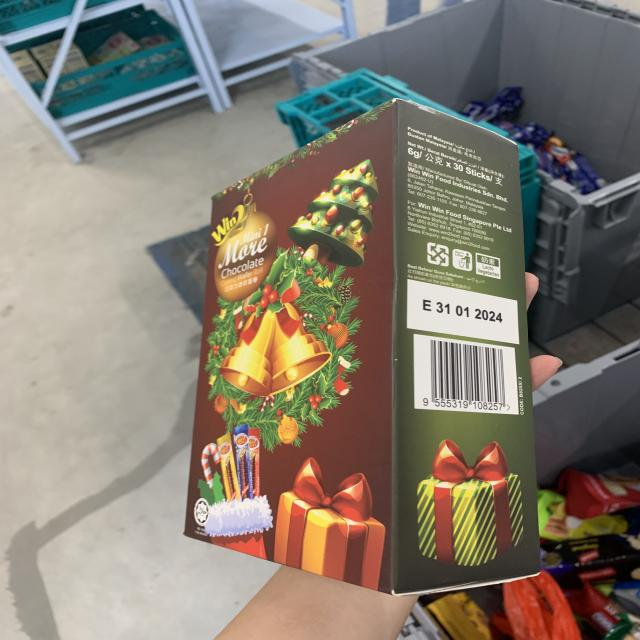object_name: (216, 181, 521, 566)
